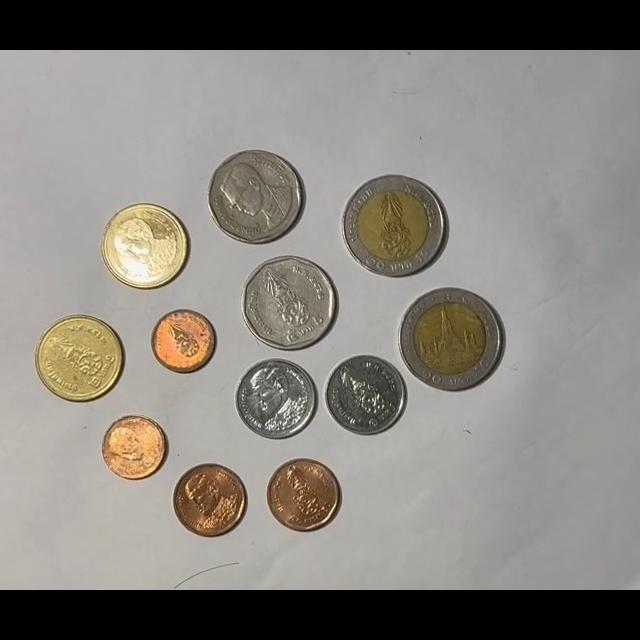1-baht: (234, 358, 317, 439), (324, 355, 406, 436)
10-baht: (398, 287, 503, 391), (341, 174, 446, 277)
2-baht: (35, 314, 125, 403), (101, 203, 188, 290)
25-satang: (102, 414, 169, 481), (151, 308, 217, 373)
5-baht: (208, 149, 306, 244), (242, 255, 337, 352)
50-satang: (172, 463, 248, 538), (266, 458, 340, 532)
